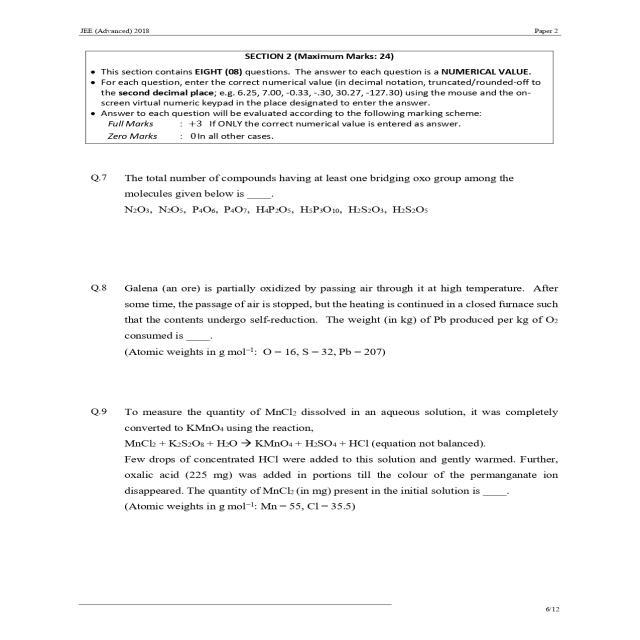Instruction: (66, 43, 604, 154)
Question_Answer_Block: (66, 391, 604, 534), (66, 257, 604, 378), (66, 157, 604, 243)
Question_Block: (66, 391, 604, 534), (66, 257, 604, 378), (66, 157, 604, 243)
Question_Paper_Area: (66, 43, 604, 557)
